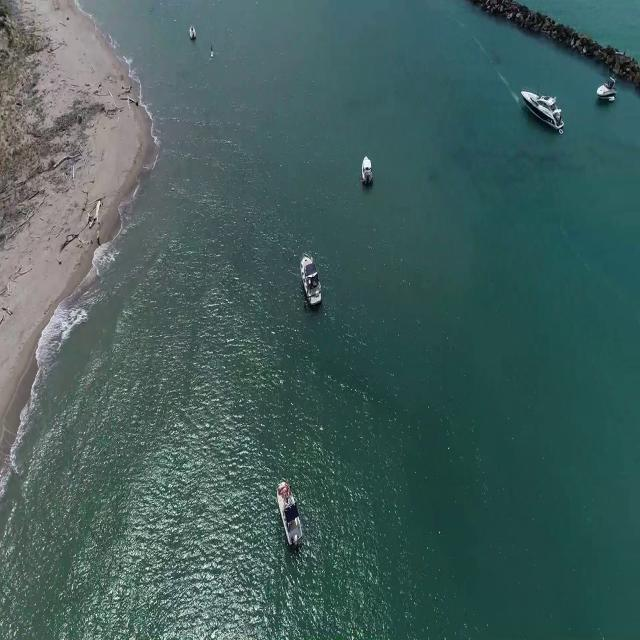boat: (520, 89, 565, 137), (276, 480, 300, 552), (300, 250, 322, 310), (597, 78, 621, 104), (361, 153, 376, 189), (189, 25, 198, 41)
person: (210, 42, 216, 54)
surfboard: (210, 51, 218, 63)
wood: (62, 199, 104, 244)
